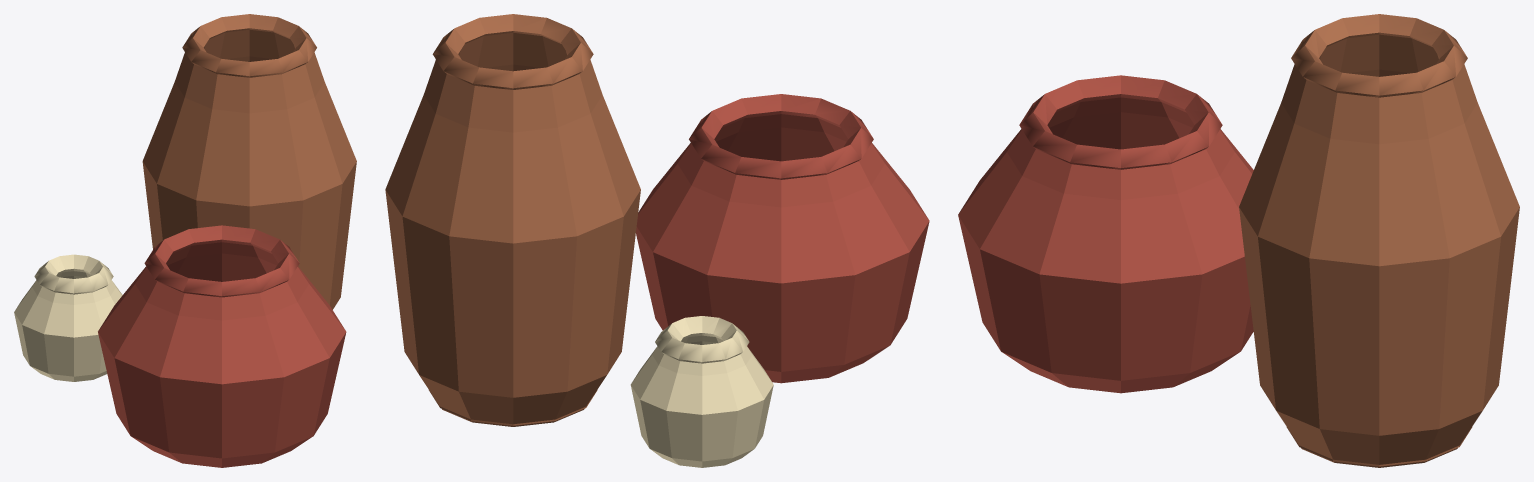
The model's file is 33_pottery_group.fbx.
3 views of the same model, side by side, from view 1: azimuth 30°, elevation 25°; view 2: azimuth 150°, elevation 25°; view 3: azimuth 270°, elevation 25° (orthographic). The views are drawn at different scales.
Visible parts, largest first — view 1: 33_pottery_group; view 2: 33_pottery_group; view 3: 33_pottery_group.
Part boxes in pixels (left/top/right/bottom): 33_pottery_group: left=14, top=14, right=356, bottom=467; 33_pottery_group: left=385, top=14, right=929, bottom=467; 33_pottery_group: left=958, top=14, right=1519, bottom=467.
Size of the model in its own units: 0.88 by 0.755 by 1.
1 material, 1 textured.
